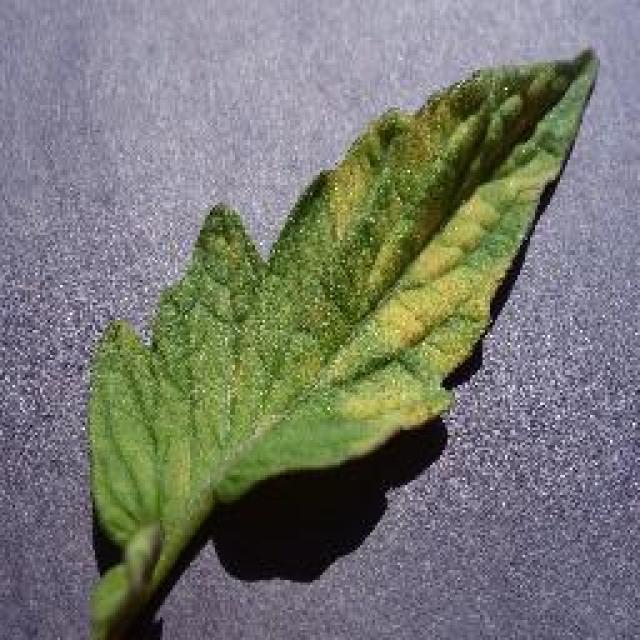Tom_Leaf_Mold: (320, 72, 535, 352)
